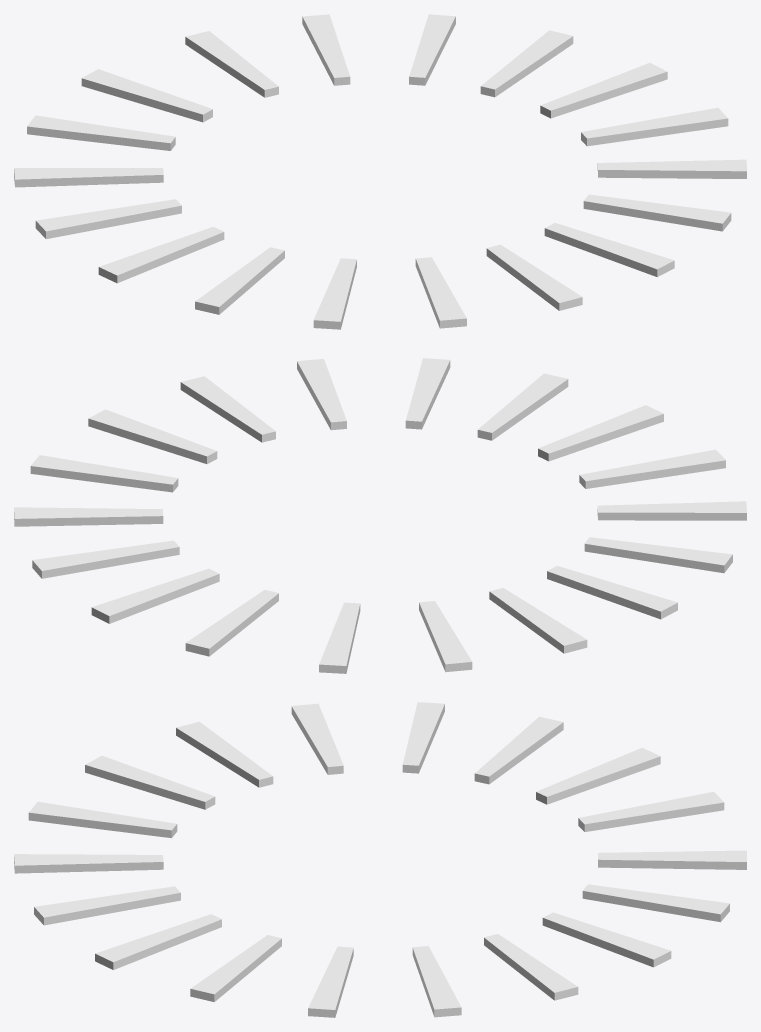
File: ski models ski plane.fbx
The picture shows the model from 3 angles, top to bottom: view 1: azimuth 30°, elevation 25°; view 2: azimuth 150°, elevation 25°; view 3: azimuth 270°, elevation 25°; orthographic projection.
Parts seen in each view (by area): view 1: Plane; view 2: Plane; view 3: Plane.
Boxes of the visible parts, <box> form: Plane: <box>14,14,746,329</box>; Plane: <box>14,358,746,673</box>; Plane: <box>14,702,746,1017</box>.
Bounding box in the file's own units: 0.4258 × 0.00506 × 0.4283.
1 material, 1 textured.
